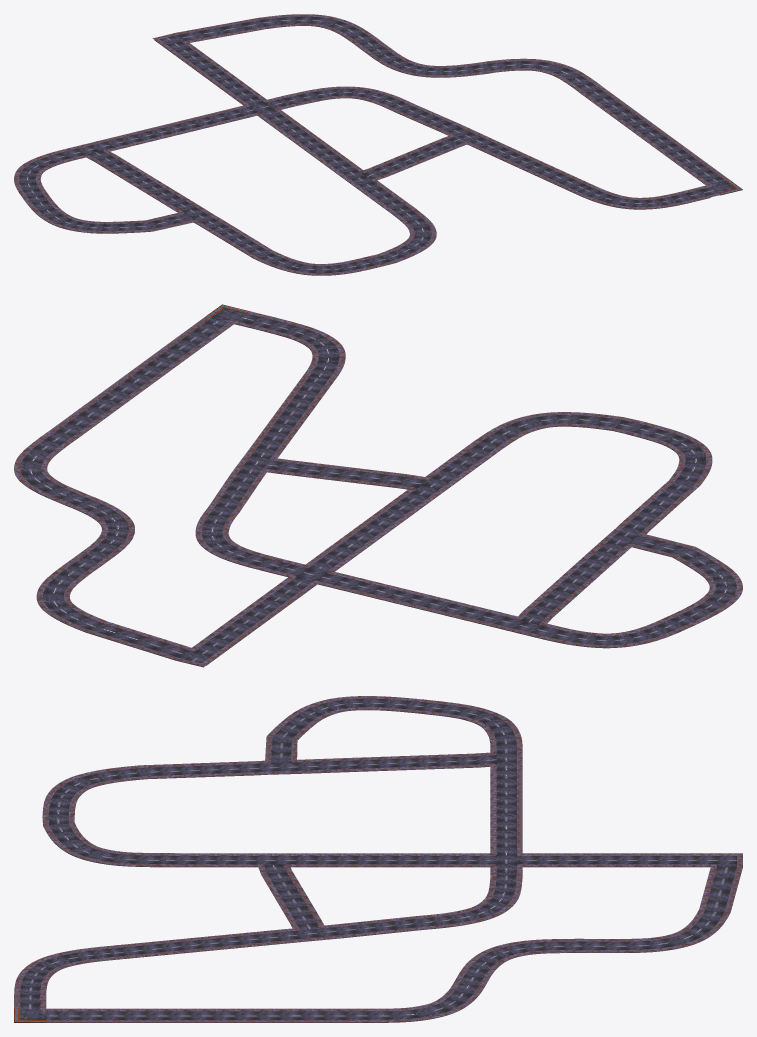
The model's file is Road.fbx.
The picture shows the model from 3 angles, top to bottom: view 1: azimuth 30°, elevation 25°; view 2: azimuth 150°, elevation 25°; view 3: azimuth 270°, elevation 25°; orthographic projection. The views are drawn at different scales.
Visible parts, largest first — view 1: Road; view 2: Road; view 3: Road.
Boxes of the visible parts, x1,y1,x2,y2 form: Road: (14, 14, 742, 275); Road: (14, 304, 742, 667); Road: (14, 696, 742, 1022).
Bounding box in the file's own units: 133 × 125 × 0.1967.
